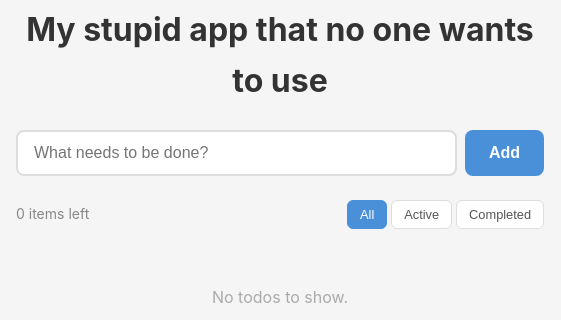
Todo App › adds a todo when pressing Enter
This screenshot has width=561, height=320.
In the field with placeholder "What needs to be done?": (236, 153) [16,130,457,176], type "Walk the dog"
Then press Enter
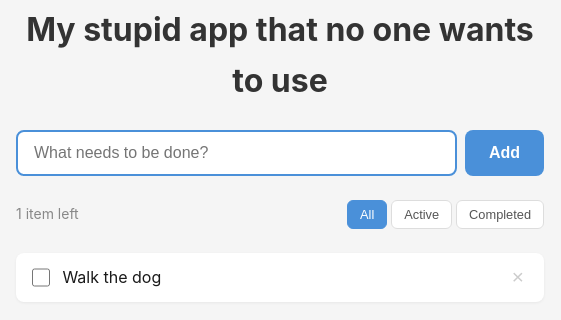
Now the text "Walk the dog" is shown, box [62,265,161,290]
